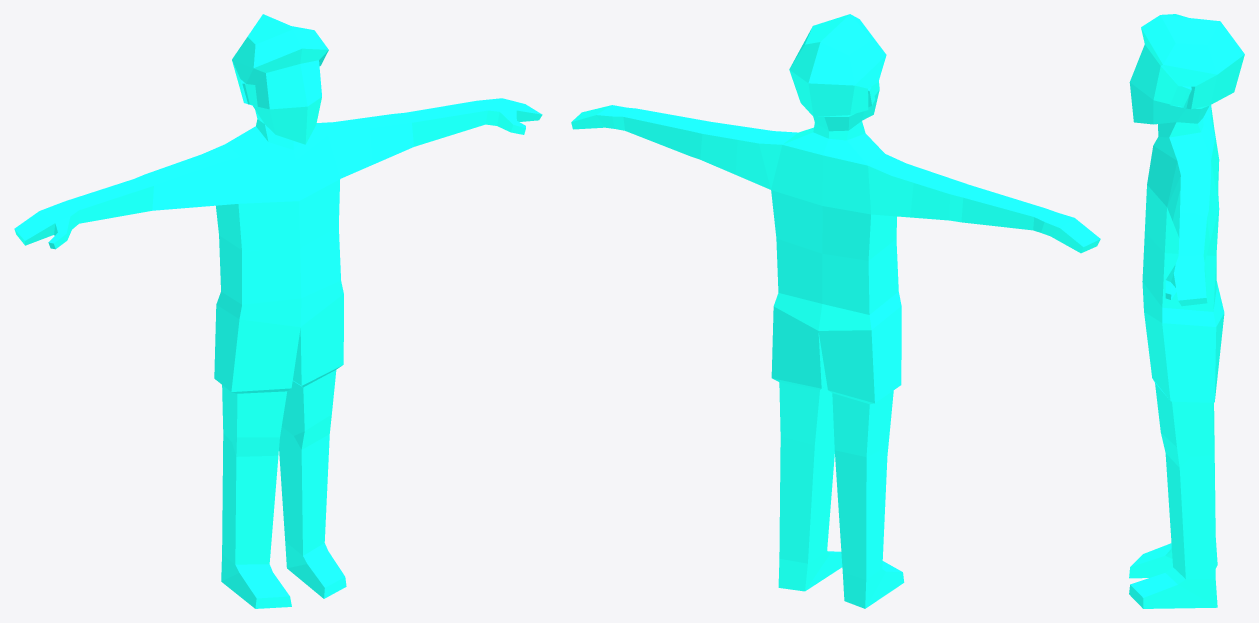
The model's file is Thumbnaildoc-1775115927883.glb.
3 views of the same model, side by side, from view 1: azimuth 30°, elevation 25°; view 2: azimuth 150°, elevation 25°; view 3: azimuth 270°, elevation 25° (orthographic).
Parts seen in each view (by area): view 1: z-dummy; view 2: z-dummy; view 3: z-dummy.
Boxes of the visible parts, x1=… form: z-dummy: x1=14, y1=14, x2=542, y2=608; z-dummy: x1=571, y1=14, x2=1100, y2=608; z-dummy: x1=1129, y1=14, x2=1244, y2=608.
Bounding box in the file's own units: 1.8 × 1.87 × 0.344.
